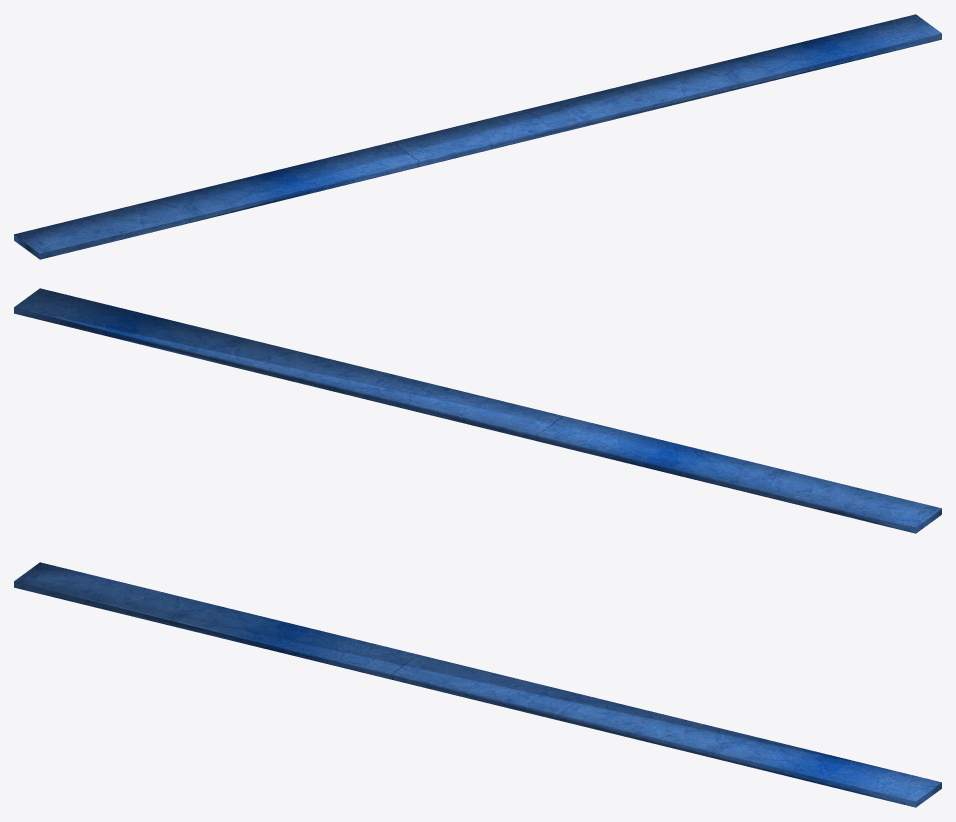
The picture shows the model from 3 angles, top to bottom: view 1: azimuth 30°, elevation 25°; view 2: azimuth 150°, elevation 25°; view 3: azimuth 330°, elevation 25°; orthographic projection.
Visible parts, largest first — view 1: Ledge; view 2: Ledge; view 3: Ledge.
Part boxes in pixels (left/top/right/bottom): Ledge: left=14, top=14, right=941, bottom=259; Ledge: left=14, top=288, right=941, bottom=533; Ledge: left=14, top=562, right=941, bottom=807.
Bounding box in the file's own units: 150 × 1 × 7.5.
